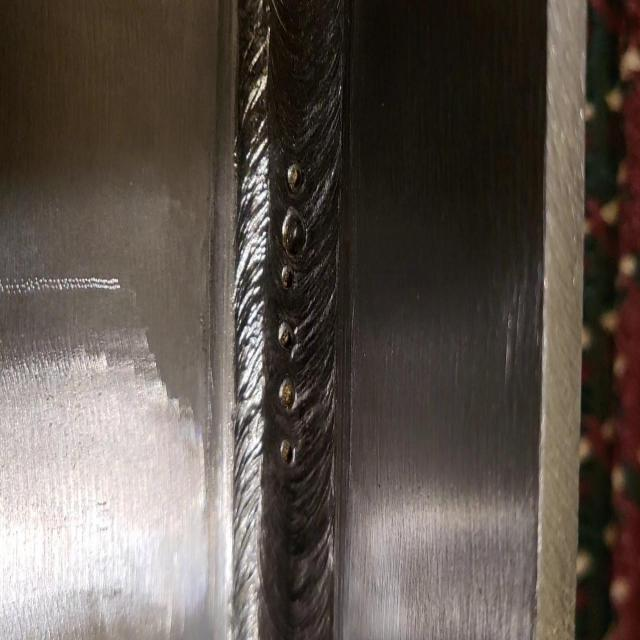Welding Line: (239, 3, 333, 640)
Workpiece: (2, 4, 578, 640)
porosity: (278, 162, 308, 467)
